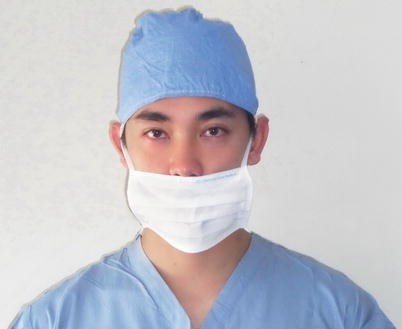face_with_mask: (107, 9, 266, 252)
